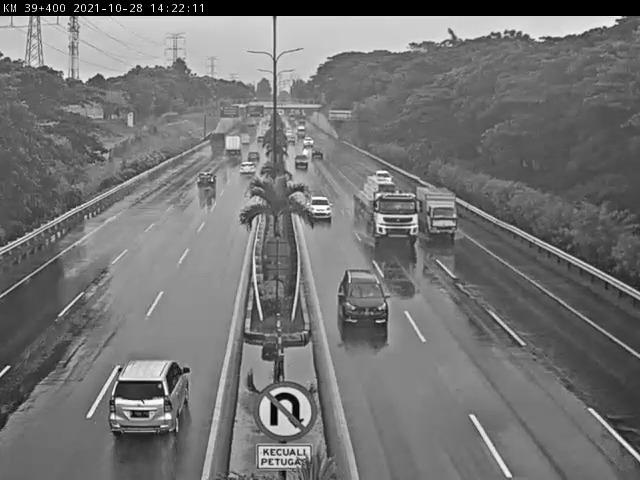big truck: (355, 176, 421, 248)
car: (105, 357, 196, 439), (330, 267, 394, 331), (306, 195, 335, 228), (291, 153, 314, 177), (192, 168, 215, 188), (240, 160, 258, 179)
small truck: (416, 184, 464, 242)
